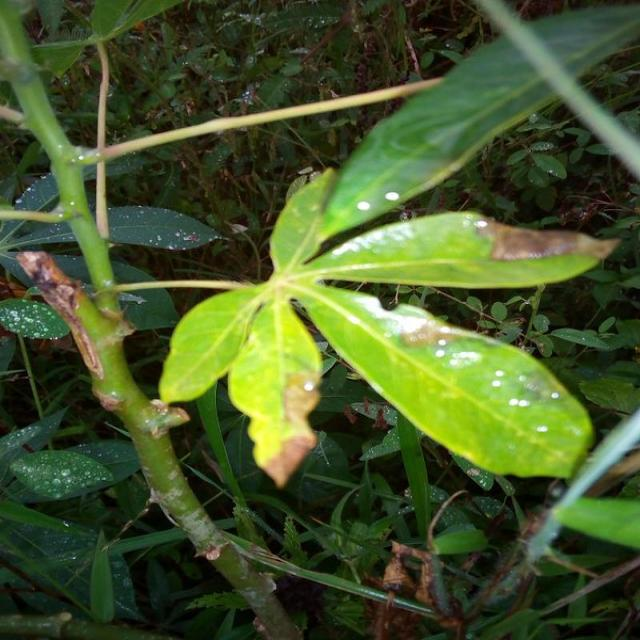cassava leaf: (271, 1, 638, 272), (290, 278, 594, 480), (298, 208, 620, 289)
